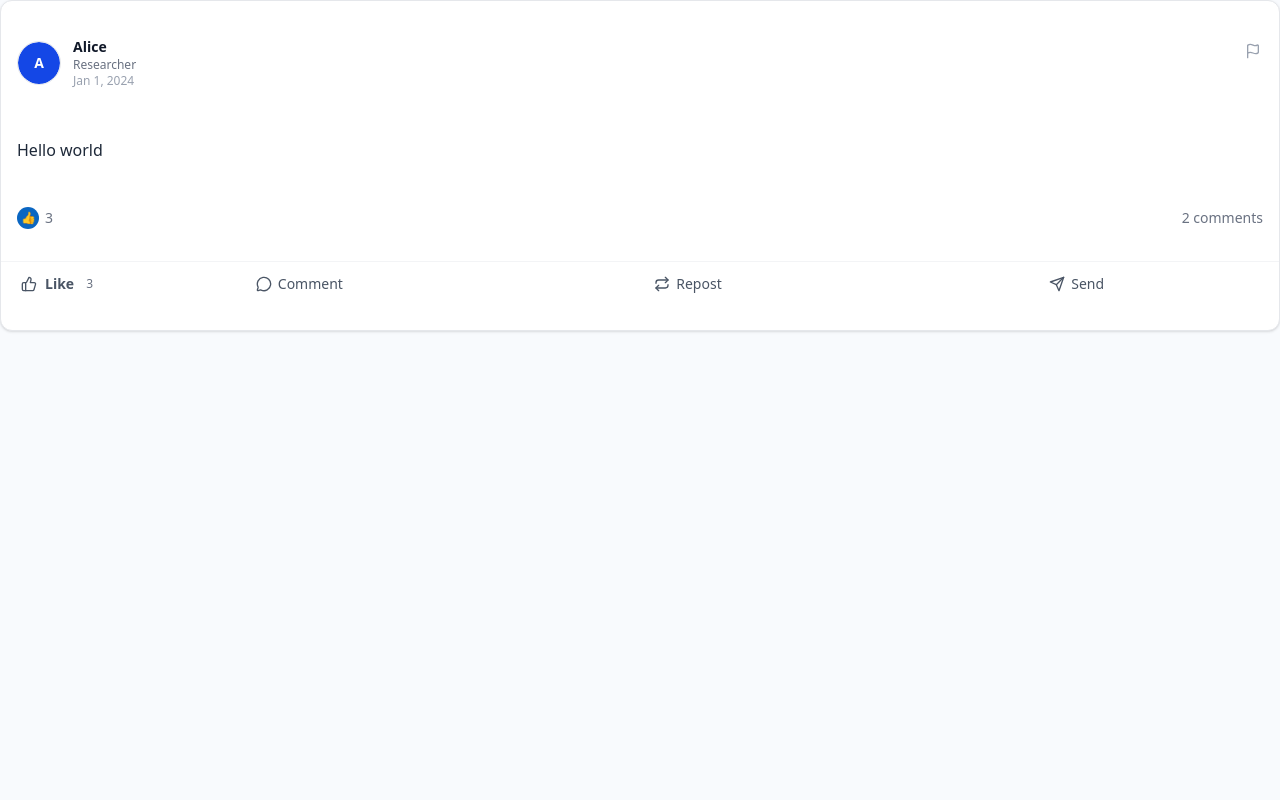
Test: PostItem › report post › opens the report dialog when the flag button is clicked
Click the button titled "Report post": (1253, 51) [1239,37,1267,65]
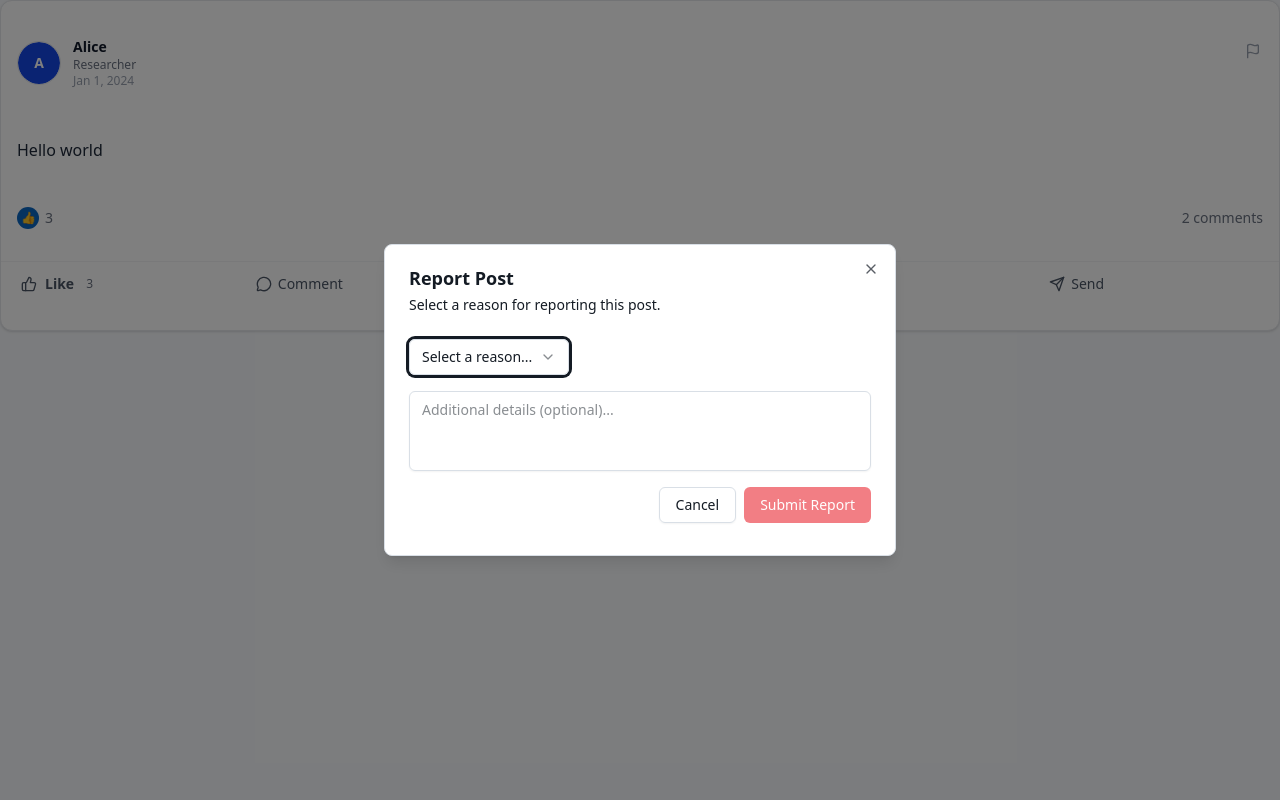
Check: the heading "Report Post" is shown, box [409,266,514,290]
